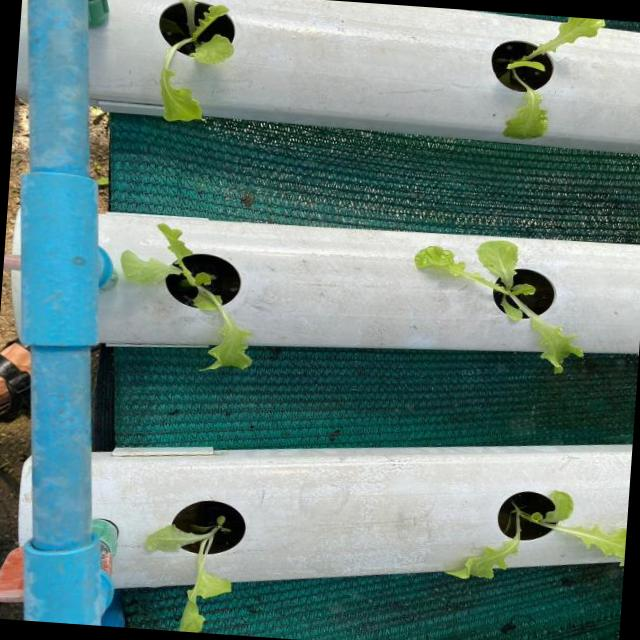Lettuce-Not-Ready-to-Harvest: (414, 240, 583, 373), (122, 224, 251, 368), (446, 490, 626, 579), (503, 17, 604, 138), (145, 515, 231, 632), (161, 0, 234, 120)
